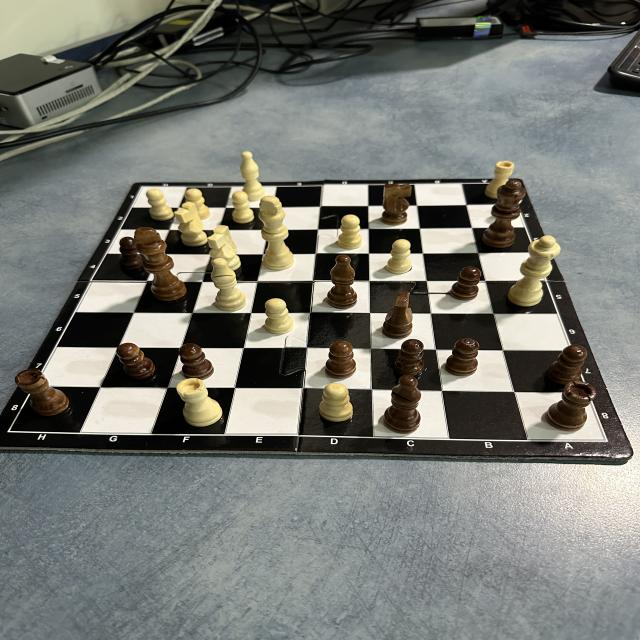Black-Bishop: (327, 254, 358, 308)
Black-King: (134, 227, 186, 301)
Black-Knight: (384, 375, 421, 434), (382, 291, 413, 339), (382, 183, 412, 226)
Black-Pawn: (548, 344, 588, 385), (116, 342, 155, 380), (178, 343, 215, 382), (446, 338, 480, 376), (325, 339, 357, 378), (394, 339, 425, 376), (450, 266, 482, 301), (119, 237, 144, 270)
Black-Queen: (482, 180, 526, 248)
Black-Rook: (14, 368, 70, 417), (545, 380, 597, 432)
White-Bishop: (210, 257, 246, 311), (240, 151, 265, 202)
White-King: (259, 196, 294, 270)
White-Knight: (207, 225, 242, 271), (175, 202, 208, 247)
White-Pawn: (318, 382, 354, 422), (264, 298, 294, 334), (146, 188, 175, 221), (386, 238, 412, 274), (338, 214, 362, 250), (184, 188, 210, 220), (231, 190, 255, 223)
White-Queen: (506, 234, 562, 306)
White-Rook: (176, 378, 222, 427), (484, 160, 514, 201)
